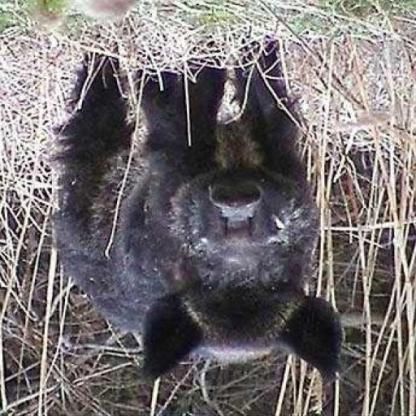boar: (52, 64, 376, 402)
